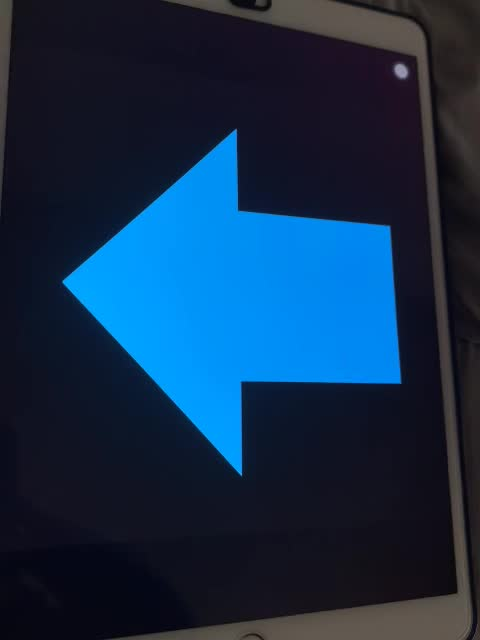left: (56, 122, 408, 482)
